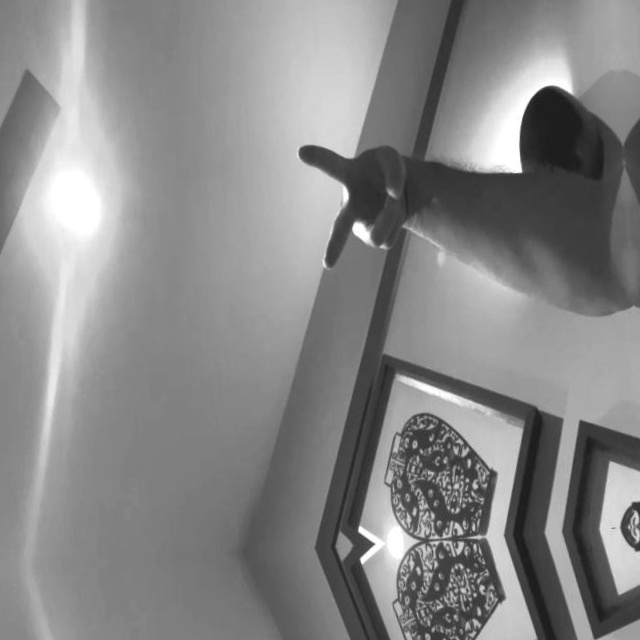Scissors: (297, 136, 415, 278)
